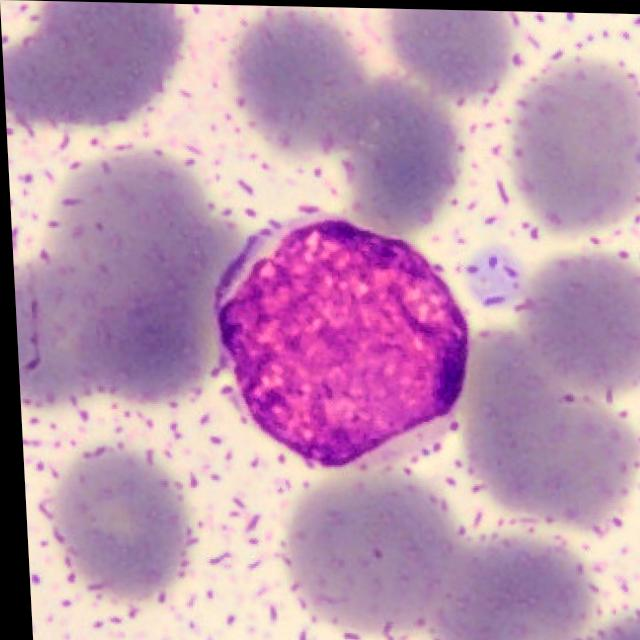Mieloblasto: (211, 215, 465, 467)
